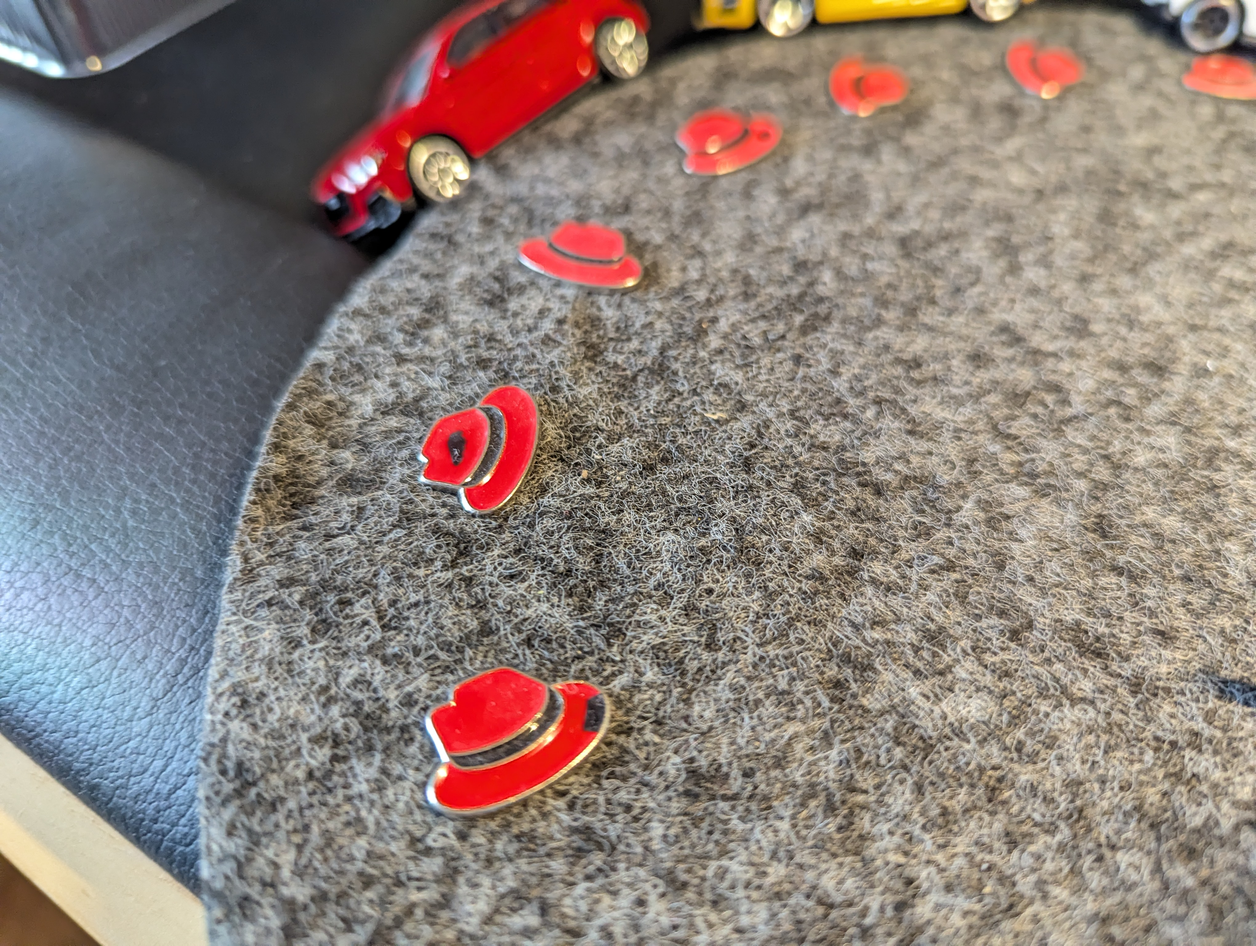Car: (296, 0, 669, 278)
Red-Hat: (409, 651, 638, 866), (409, 375, 590, 574), (513, 199, 678, 323), (652, 93, 794, 182), (819, 44, 930, 145), (990, 23, 1088, 114), (1161, 36, 1256, 109)
Scratch: (565, 682, 628, 746), (434, 414, 481, 474), (742, 118, 788, 150)
